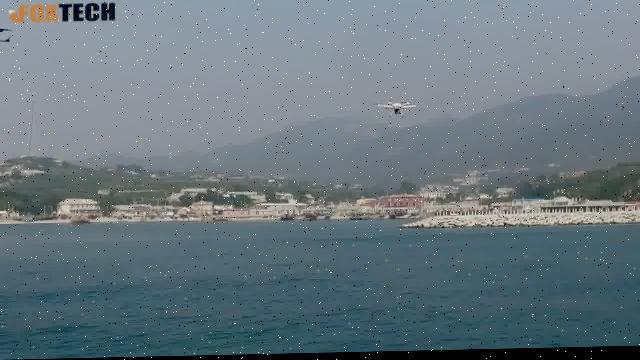drone: (368, 92, 420, 126)
